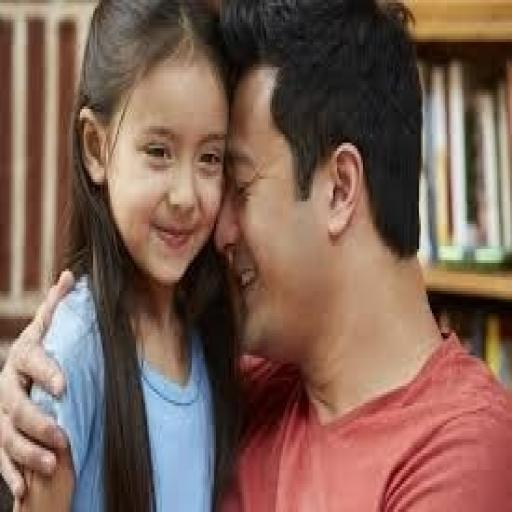hugging: (0, 0, 510, 509), (0, 0, 238, 509)
